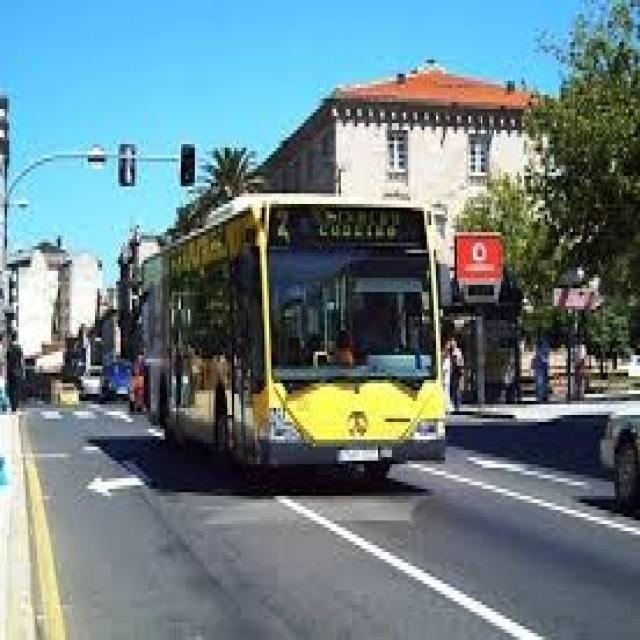BUS: (131, 195, 449, 492)
